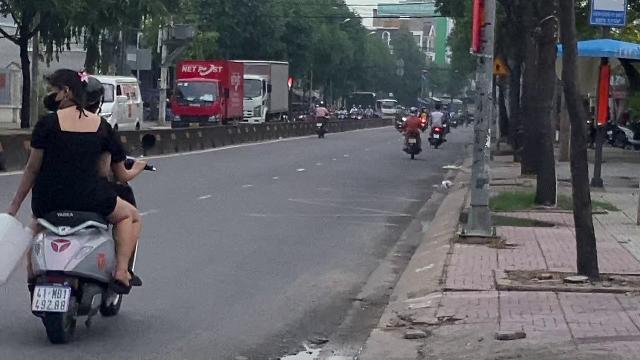helmet: (66, 72, 105, 116)
licenseplate: (32, 286, 68, 312)
motorcyclist: (0, 66, 148, 344)
nohelmet: (44, 68, 84, 112)
